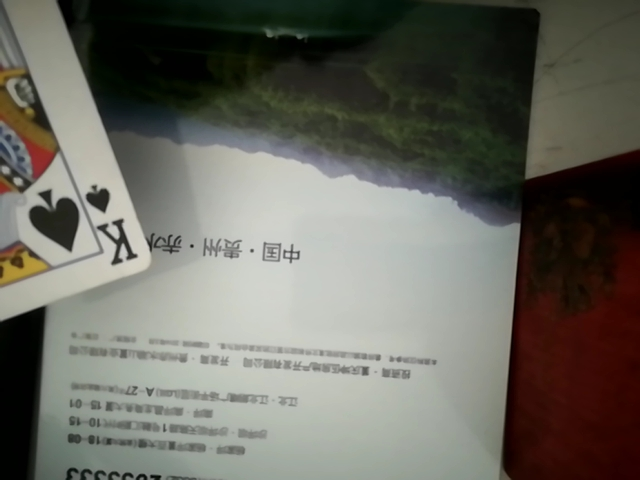ht k: (0, 0, 166, 393)
